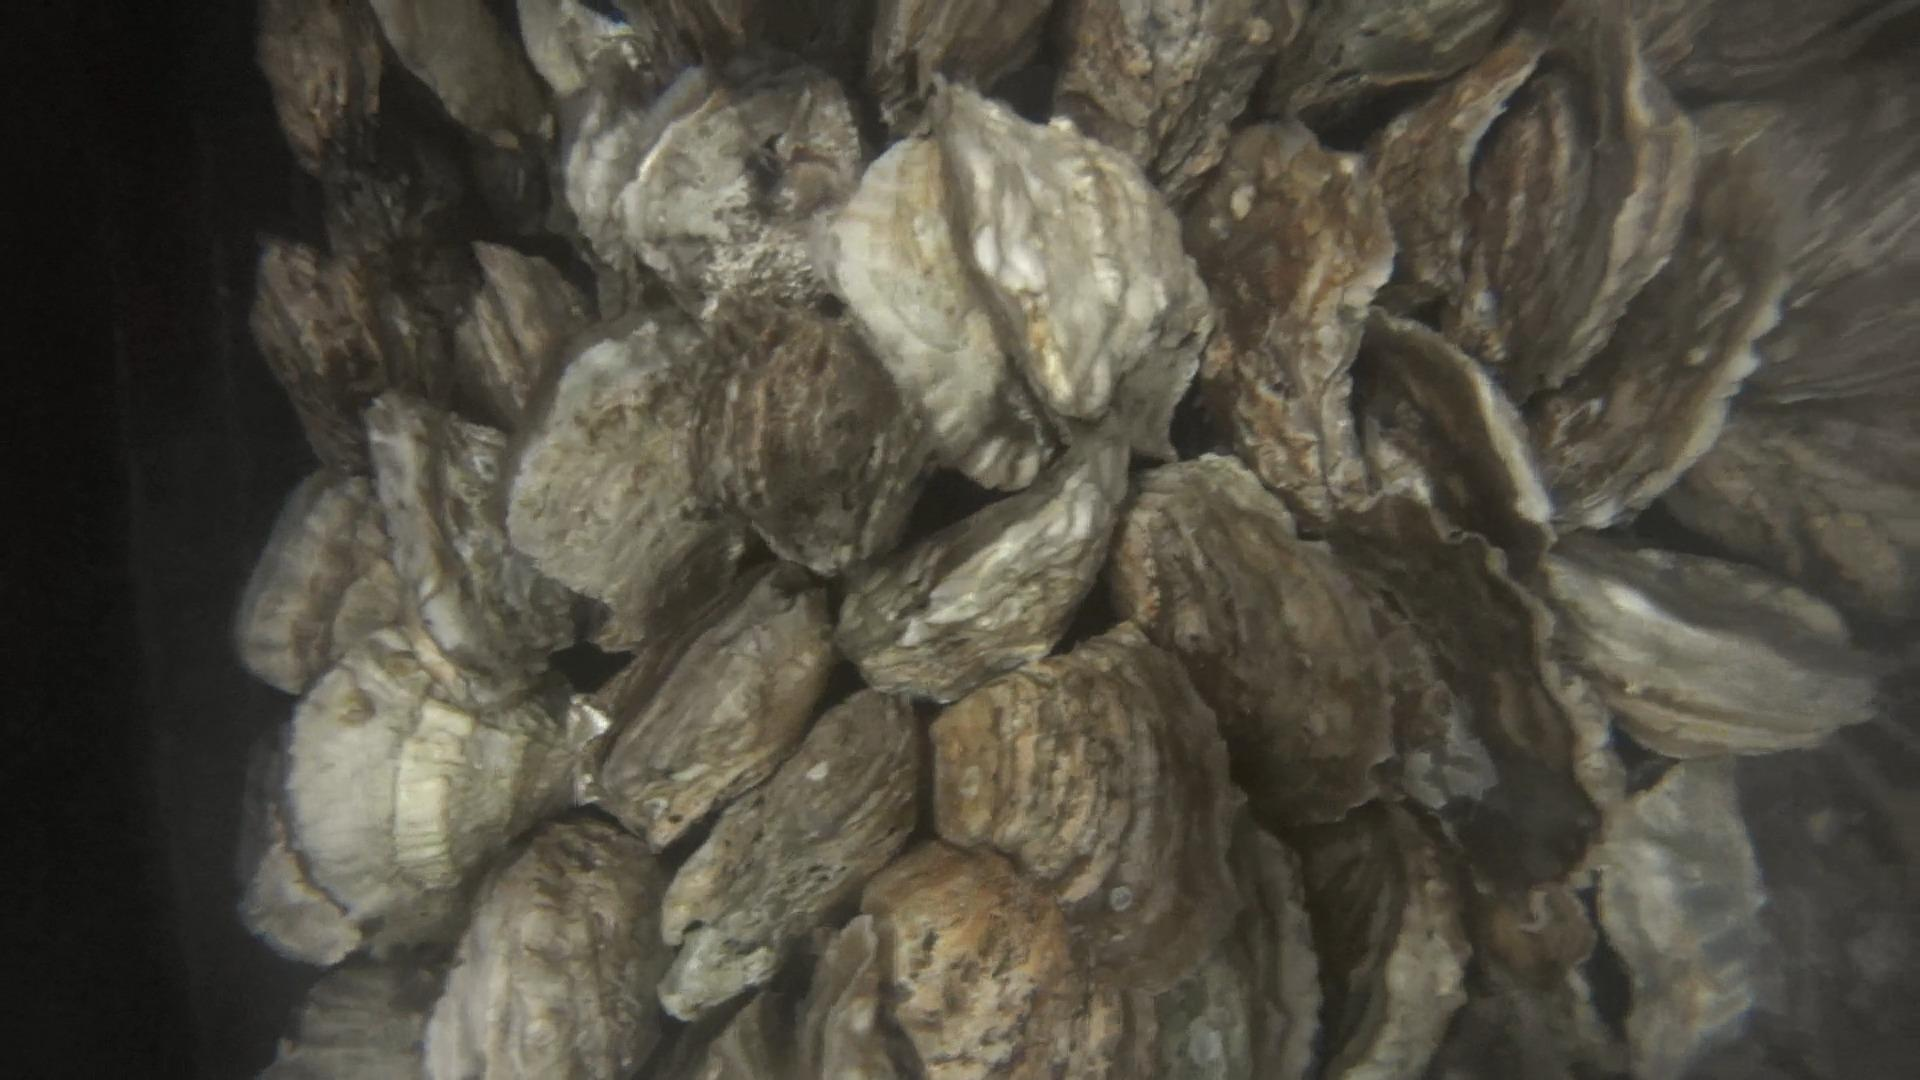Oyster- Indeterminate: (928, 620, 1242, 993), (1327, 495, 1601, 884), (1110, 455, 1396, 825), (940, 90, 1209, 419), (657, 688, 918, 1023), (684, 248, 957, 564), (1179, 123, 1395, 520), (860, 841, 1156, 1080), (425, 814, 673, 1080)
Oyster-Closed: (833, 409, 1130, 704), (582, 560, 841, 856), (1352, 307, 1556, 571)
